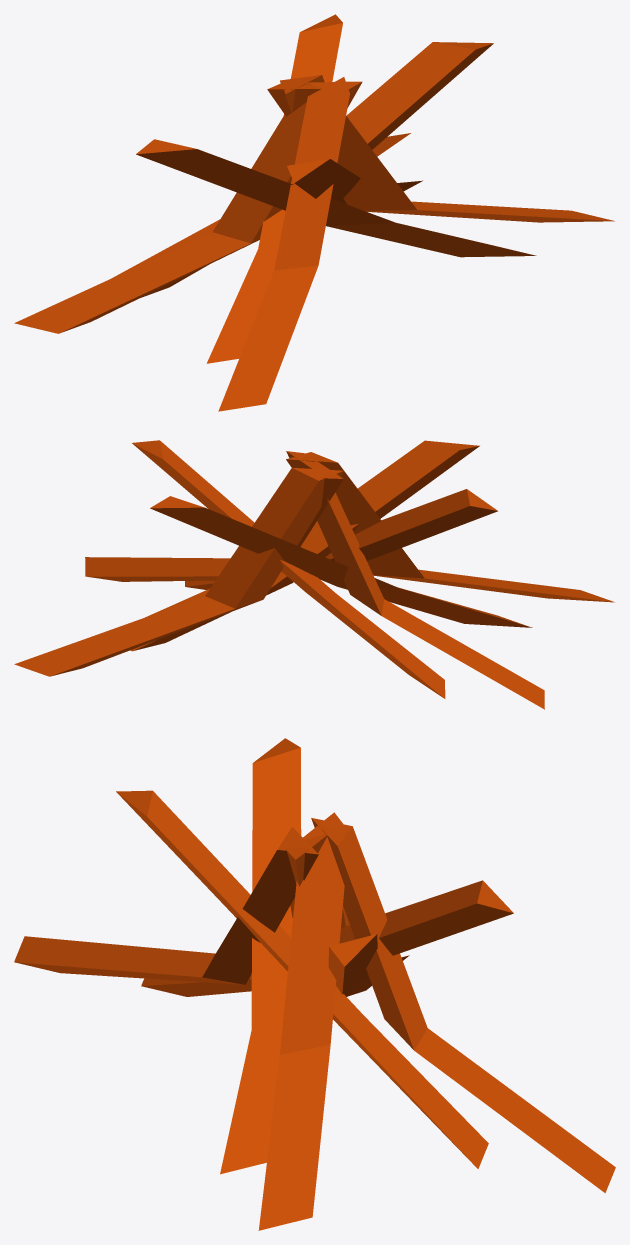
The model's file is tuft_orange.obj.
3 renders of one model, top to bottom at view 1: azimuth 30°, elevation 25°; view 2: azimuth 150°, elevation 25°; view 3: azimuth 270°, elevation 25°, orthographic. The views are drawn at different scales.
Visible parts, largest first — view 1: tuft_orange_Cylinder.025; view 2: tuft_orange_Cylinder.025; view 3: tuft_orange_Cylinder.025.
Boxes of the visible parts, box(x1,y1,x2,y2) form: tuft_orange_Cylinder.025: box(14, 14, 614, 411); tuft_orange_Cylinder.025: box(14, 440, 614, 709); tuft_orange_Cylinder.025: box(14, 738, 615, 1230).
Bounding box in the file's own units: 0.733 × 0.2354 × 0.5615.
